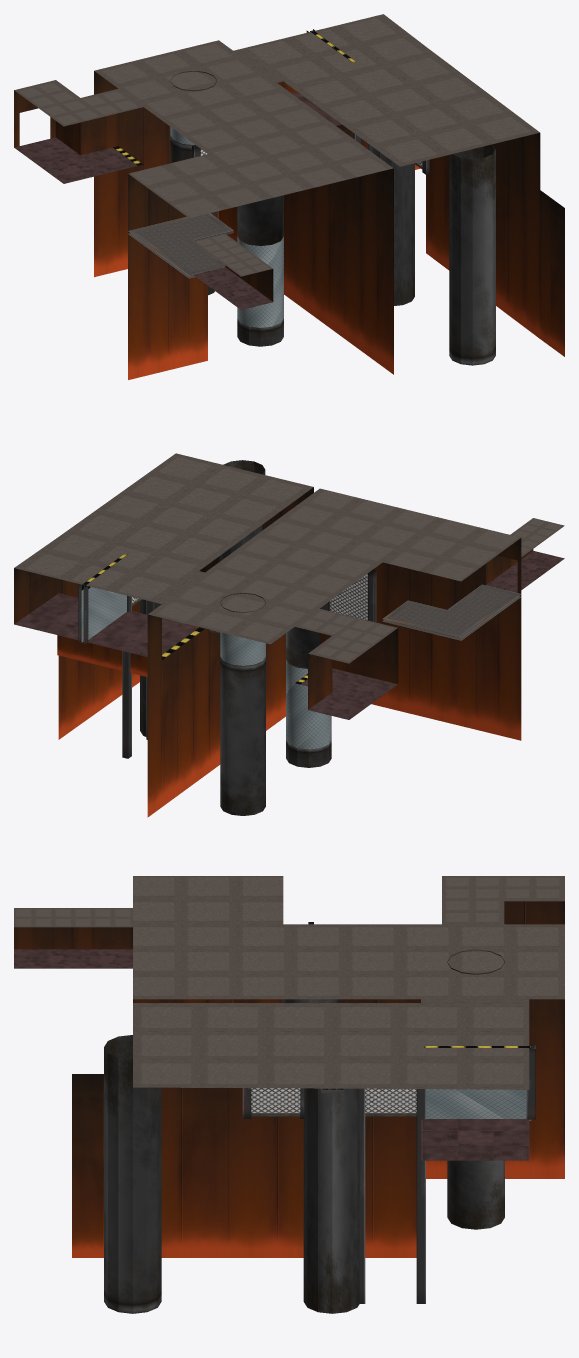
File: molten_spinning_platforms.fbx
The picture shows the model from 3 angles, top to bottom: view 1: azimuth 30°, elevation 25°; view 2: azimuth 150°, elevation 25°; view 3: azimuth 270°, elevation 25°; orthographic projection. The views are drawn at different scales.
Visible parts, largest first — view 1: Wall, Roof, Pillars, Floor; view 2: Roof, Wall, Pillars, Floor, Barriers, WindowDoor, Wall2; view 3: Roof, Wall, Pillars, Barriers, Floor, WindowDoor.
Part boxes in pixels (x1,y1,x2,y2): Wall: [14, 71, 564, 379]; Roof: [14, 14, 539, 218]; Pillars: [170, 71, 495, 365]; Floor: [14, 92, 341, 309]; Roof: [14, 453, 520, 663]; Wall: [14, 487, 564, 817]; Pillars: [140, 460, 331, 815]; Floor: [14, 550, 564, 719]; Barriers: [78, 569, 376, 758]; WindowDoor: [81, 554, 127, 642]; Wall2: [57, 635, 147, 676]; Roof: [133, 876, 564, 1089]; Wall: [14, 901, 564, 1257]; Pillars: [104, 949, 504, 1313]; Barriers: [242, 922, 535, 1303]; Floor: [14, 949, 529, 1160]; WindowDoor: [424, 1046, 531, 1120].
Size of the model in its own units: 4982 by 2779 by 5423.
